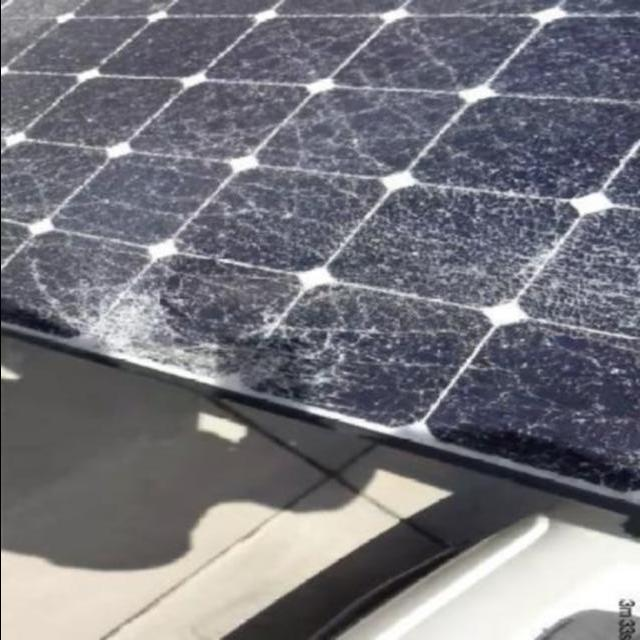cracked: (0, 0, 639, 494)
